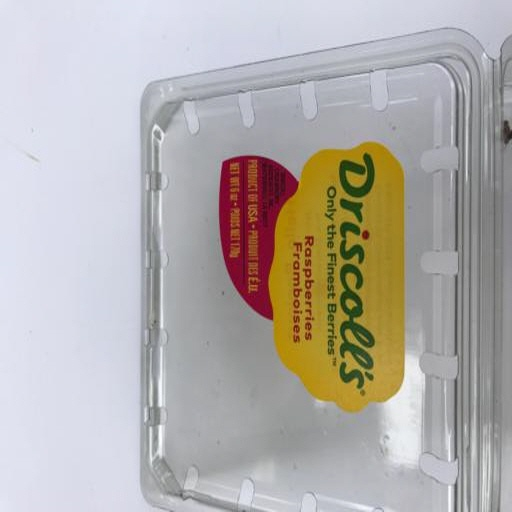Plastic_4: (137, 27, 512, 511)
